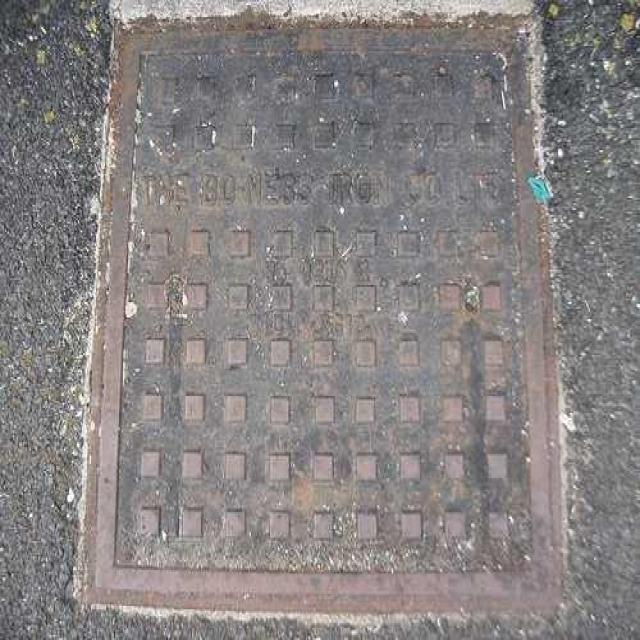manhole: (84, 5, 562, 613)
